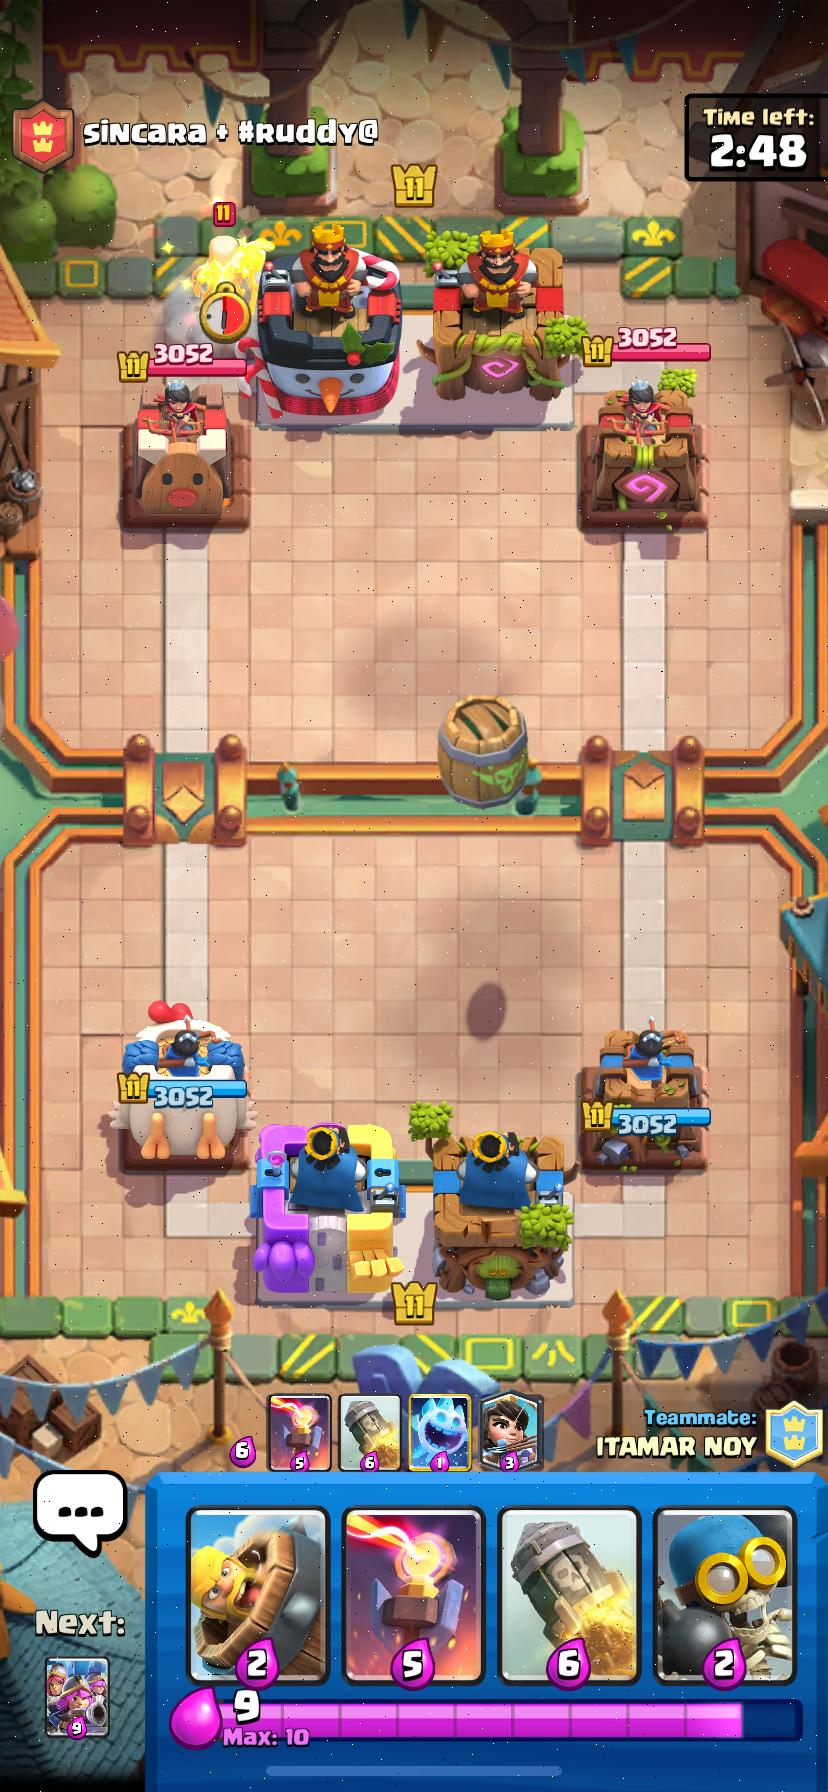EKingTower: (256, 226, 401, 424), (417, 229, 578, 401)
EWitch: (191, 235, 250, 303)
EnemyPrincessTower: (580, 379, 706, 529), (124, 384, 234, 527)
OGoblinBarrel: (438, 696, 527, 808)
OwnKingTower: (253, 1123, 403, 1303), (433, 1131, 572, 1299)
OwnPrincessTower: (109, 1001, 255, 1161), (579, 1025, 710, 1173)
